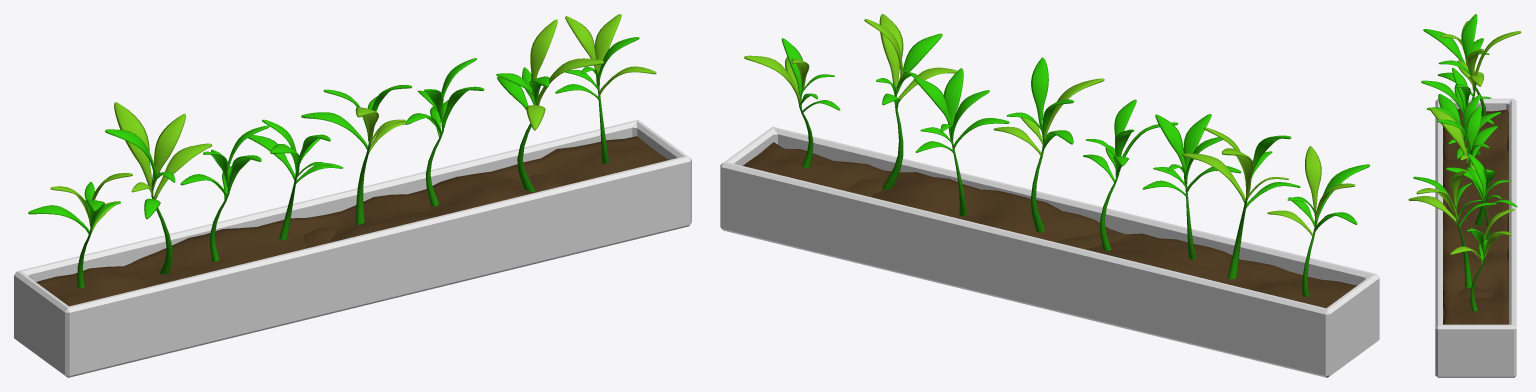
The model's file is Plant_OnGround.fbx.
The picture shows the model from 3 angles, left to right: view 1: azimuth 30°, elevation 25°; view 2: azimuth 150°, elevation 25°; view 3: azimuth 270°, elevation 25°; orthographic projection. The views are drawn at different scales.
Visible parts, largest first — view 1: Cube.008, Cube.017, Cube.010, Cube.015, Cube.016, Cube.013, Cube.012, Cube.014, Cube.009, Cube.011; view 2: Cube.008, Cube.017, Cube.015, Cube.013, Cube.014, Cube.010, Cube.009, Cube.011, Cube.016, Cube.012; view 3: Cube.017, Cube.008, Cube.015, Cube.013, Cube.010, Cube.014, Cube.016, Cube.012, Cube.011, Cube.009.
Part boxes in pixels (bbox=[...]): Cube.008: bbox=[14, 120, 691, 377]; Cube.017: bbox=[36, 136, 668, 306]; Cube.010: bbox=[105, 102, 212, 274]; Cube.015: bbox=[496, 19, 603, 192]; Cube.016: bbox=[555, 14, 656, 163]; Cube.013: bbox=[301, 85, 411, 224]; Cube.012: bbox=[248, 119, 343, 240]; Cube.014: bbox=[405, 58, 484, 206]; Cube.009: bbox=[28, 173, 132, 288]; Cube.011: bbox=[180, 125, 269, 261]; Cube.008: bbox=[720, 126, 1379, 377]; Cube.017: bbox=[743, 142, 1357, 308]; Cube.015: bbox=[864, 14, 957, 190]; Cube.013: bbox=[993, 57, 1104, 232]; Cube.014: bbox=[914, 68, 1009, 216]; Cube.010: bbox=[1181, 127, 1300, 279]; Cube.009: bbox=[1267, 146, 1369, 296]; Cube.011: bbox=[1142, 114, 1241, 259]; Cube.016: bbox=[744, 38, 840, 168]; Cube.012: bbox=[1083, 99, 1177, 250]; Cube.017: bbox=[1443, 109, 1508, 324]; Cube.008: bbox=[1435, 98, 1516, 377]; Cube.015: bbox=[1408, 170, 1496, 288]; Cube.013: bbox=[1430, 106, 1497, 225]; Cube.010: bbox=[1438, 14, 1521, 155]; Cube.014: bbox=[1446, 153, 1517, 254]; Cube.016: bbox=[1450, 208, 1514, 311]; Cube.012: bbox=[1427, 94, 1500, 199]; Cube.011: bbox=[1421, 68, 1493, 166]; Cube.009: bbox=[1423, 21, 1489, 116].
Bounding box in the file's own units: 2.02 × 0.6747 × 0.4168.
